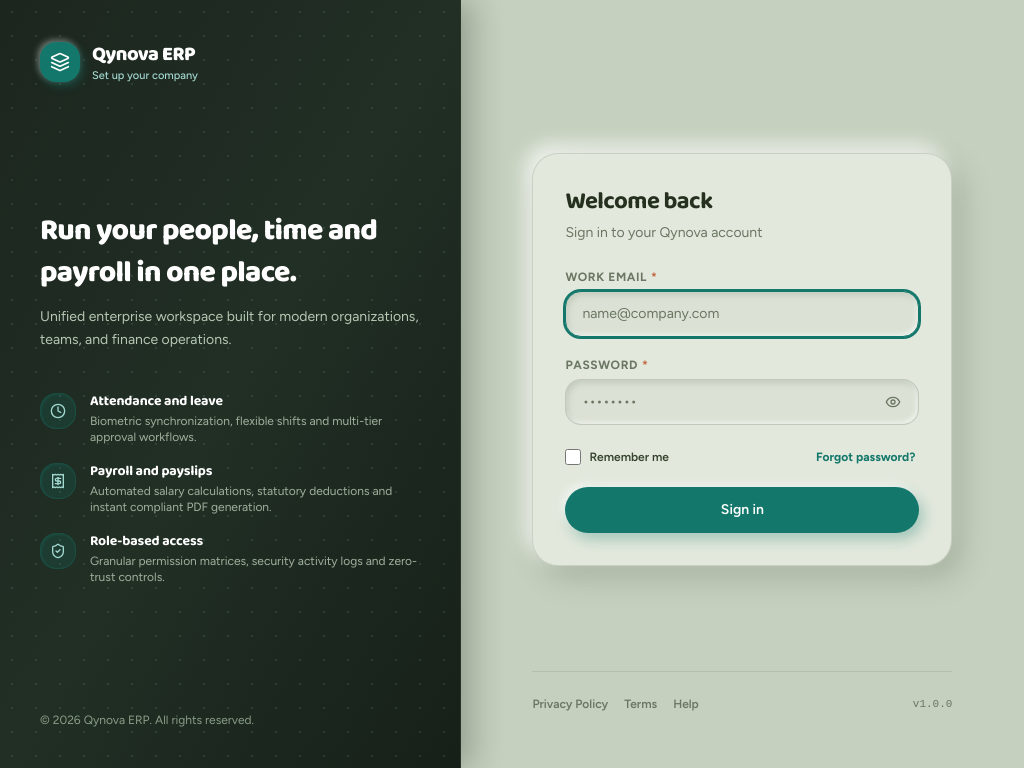
Qynova ERP - Enterprise Login Experience Suite › 4. Error States & Inline Alerts › displays uniform "Incorrect email or password." on wrong credentials and clears password
Type "user@qynova.com" into the field labelled "Work email *".
click(742, 314); type("user@qynova.com")  # box [565,291,919,337]
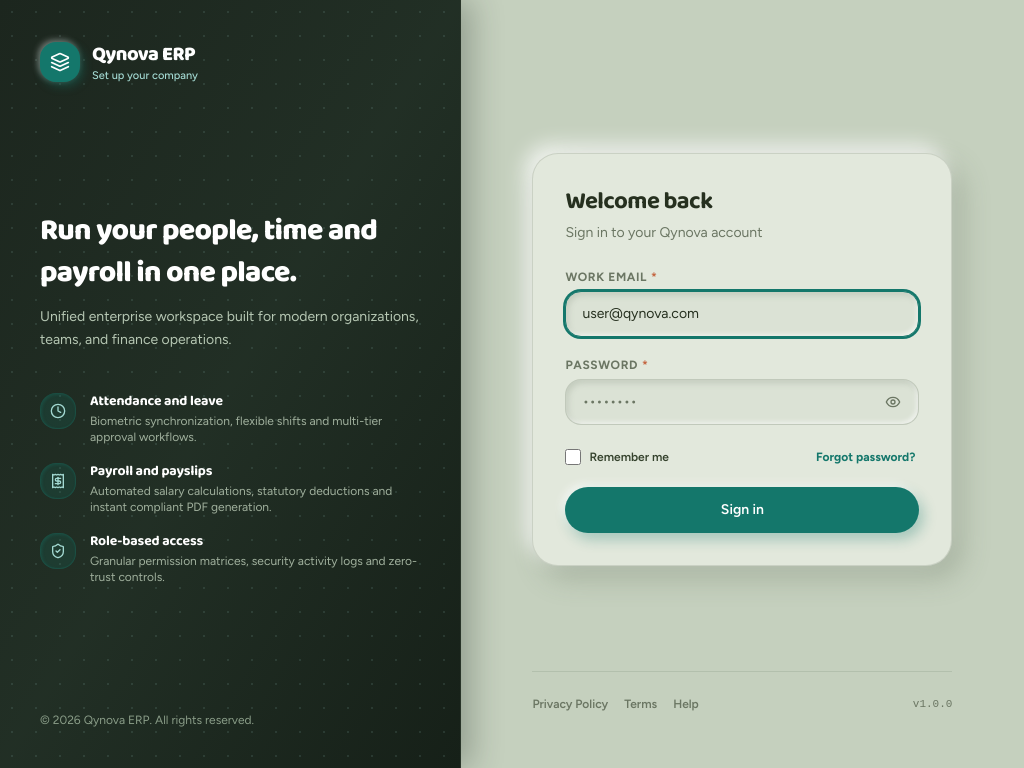
Type "WrongPass123!" into the password field labelled "Password *".
click(742, 402); type("WrongPass123!")  # box [565,379,919,425]
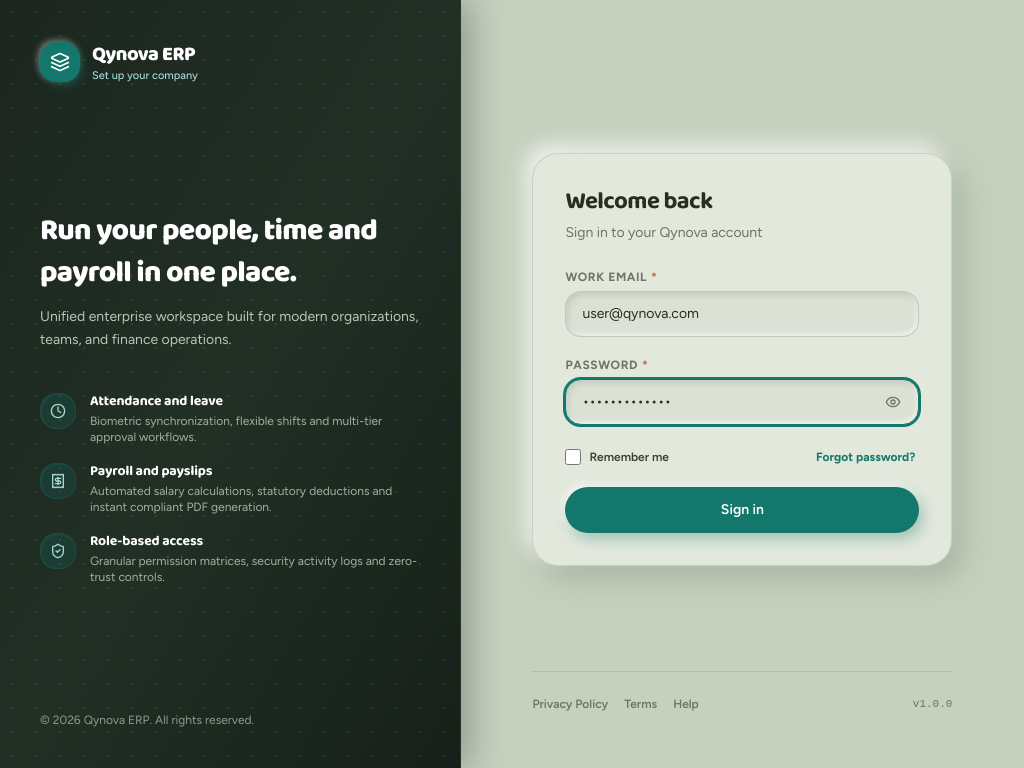
Click the button "Sign in".
click(742, 510)  # box [565,487,919,533]
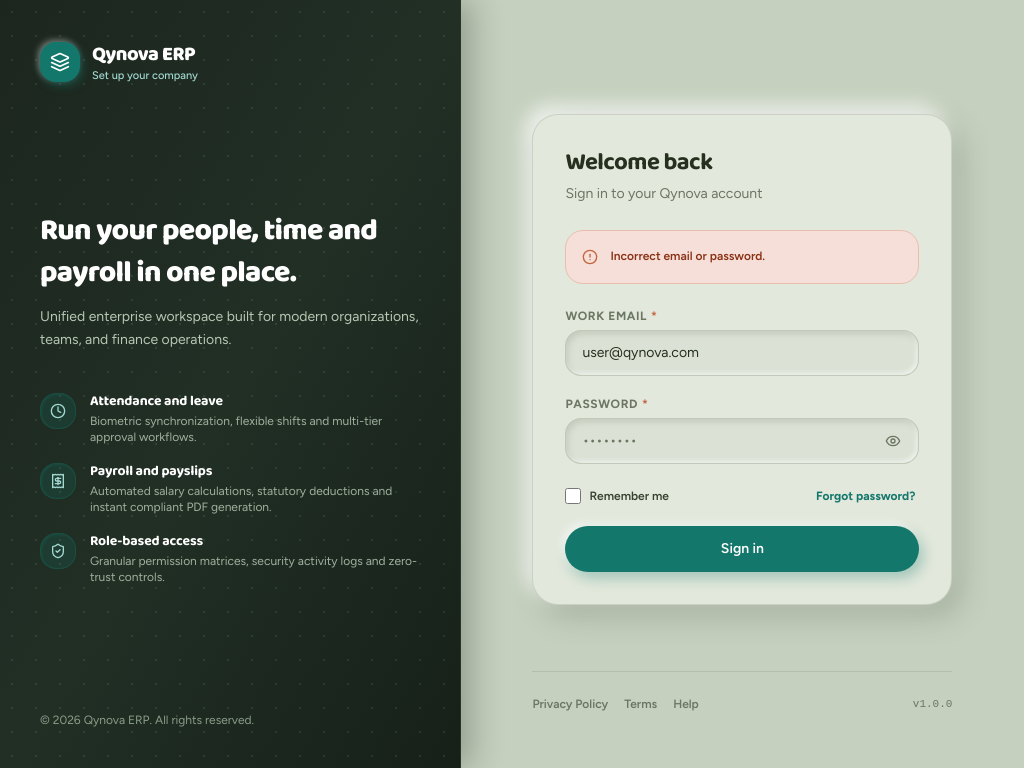
Result: the message reads "Incorrect email or password." at [610,249,765,263]
Result: the password field labelled "Password *" is empty at [565,418,919,464]
